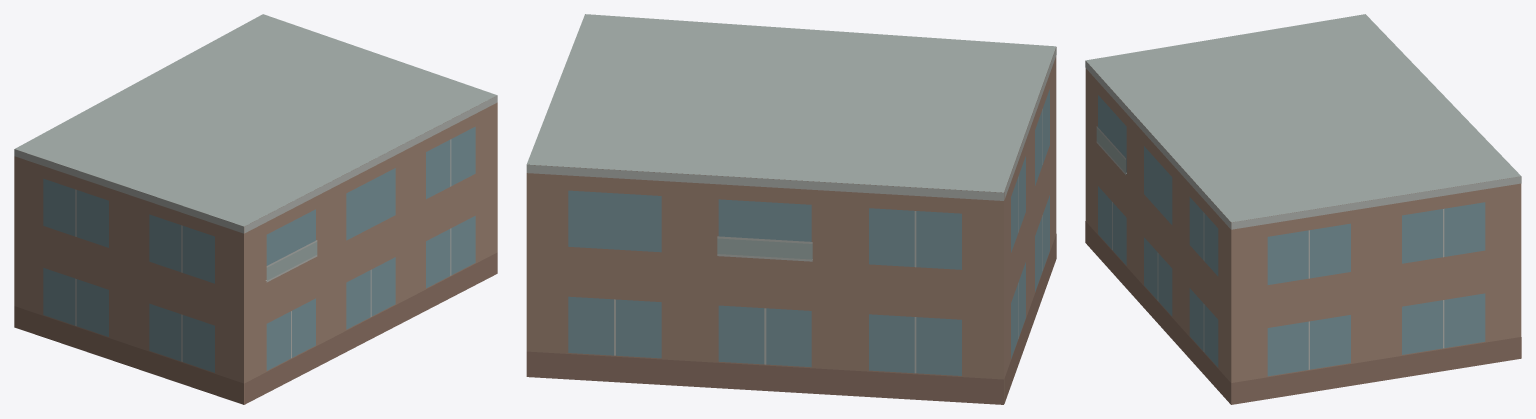
File: survey-upis-32847143.glb
The picture shows the model from 3 angles, left to right: view 1: azimuth 30°, elevation 25°; view 2: azimuth 150°, elevation 25°; view 3: azimuth 270°, elevation 25°; orthographic projection. The views are drawn at different scales.
Parts seen in each view (by area): view 1: survey-upis-32847143.tmp; view 2: survey-upis-32847143.tmp; view 3: survey-upis-32847143.tmp.
Part boxes in pixels (<box>): survey-upis-32847143.tmp: <box>14,14,497,404</box>; survey-upis-32847143.tmp: <box>526,14,1056,404</box>; survey-upis-32847143.tmp: <box>1085,14,1521,404</box>.
Bounding box in the file's own units: 14.96 × 6.1 × 13.22.
